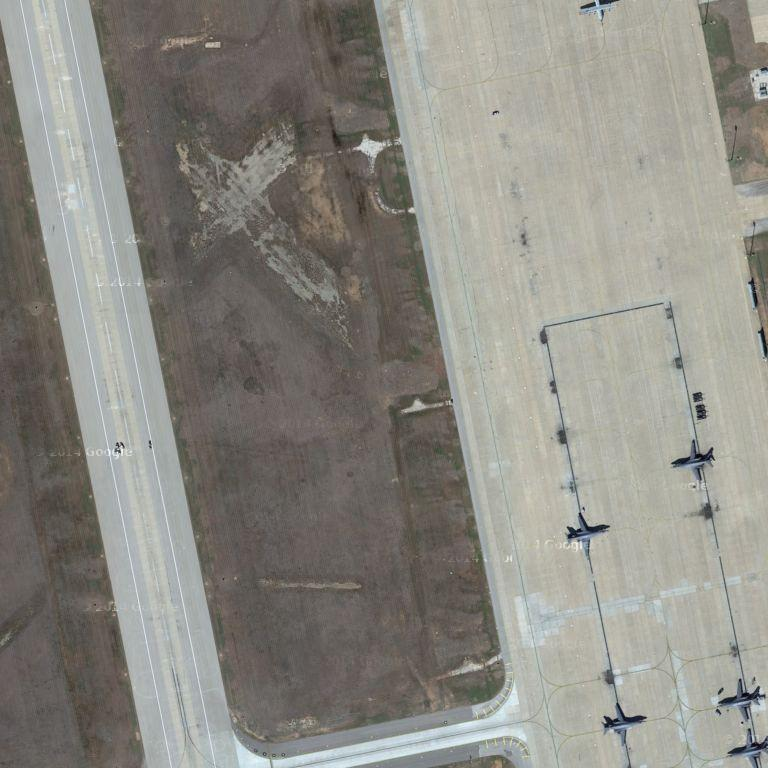B-1B: (594, 698, 653, 744), (669, 437, 722, 486), (560, 509, 614, 557), (712, 676, 765, 723), (727, 729, 768, 767)
C-130: (577, 1, 621, 23)
